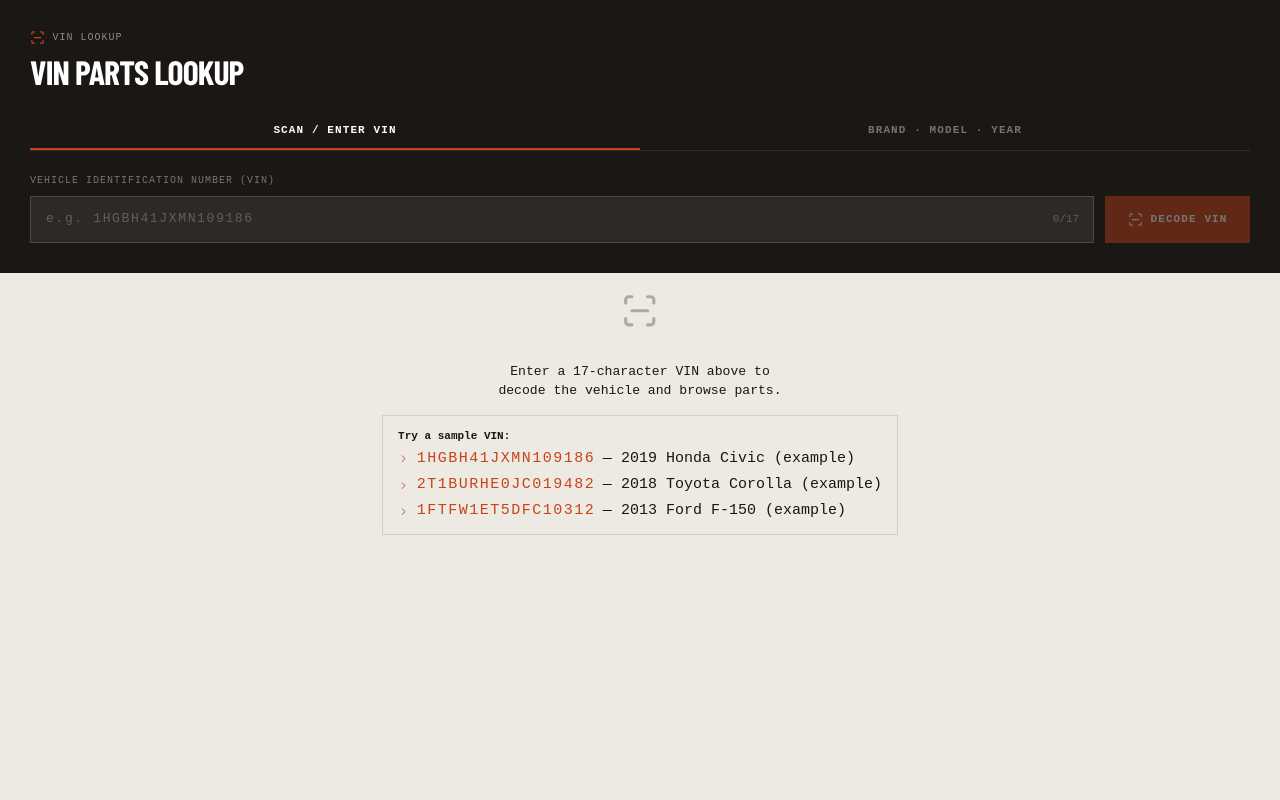
VinLookup page › surfaces a decode failure and stays on the entry panel
Type "1FTFW1E50MFA00001" into the field with placeholder "e.g. 1HGBH41JXMN109186" at [562, 219], box x1=30 y1=196 x2=1094 y2=243
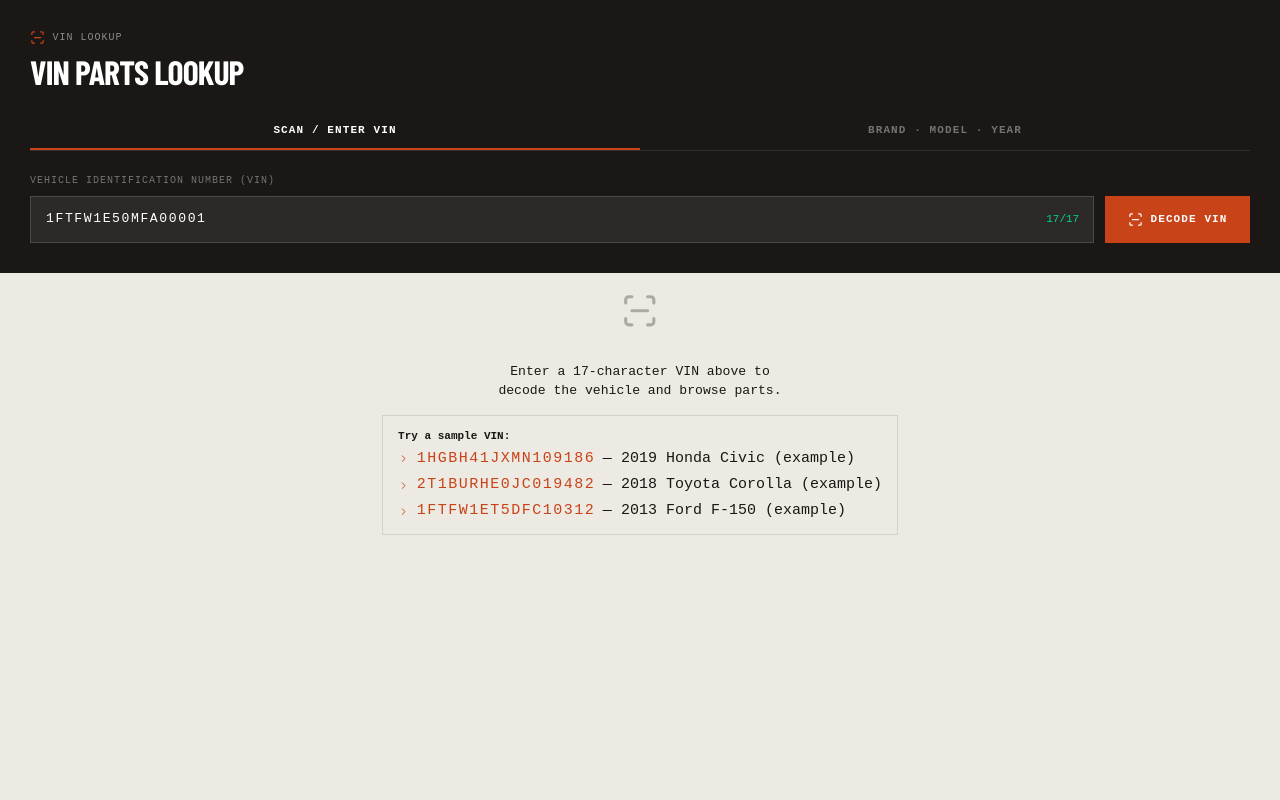
Click the button "Decode VIN" at [1178, 219], box x1=1106 y1=196 x2=1250 y2=243
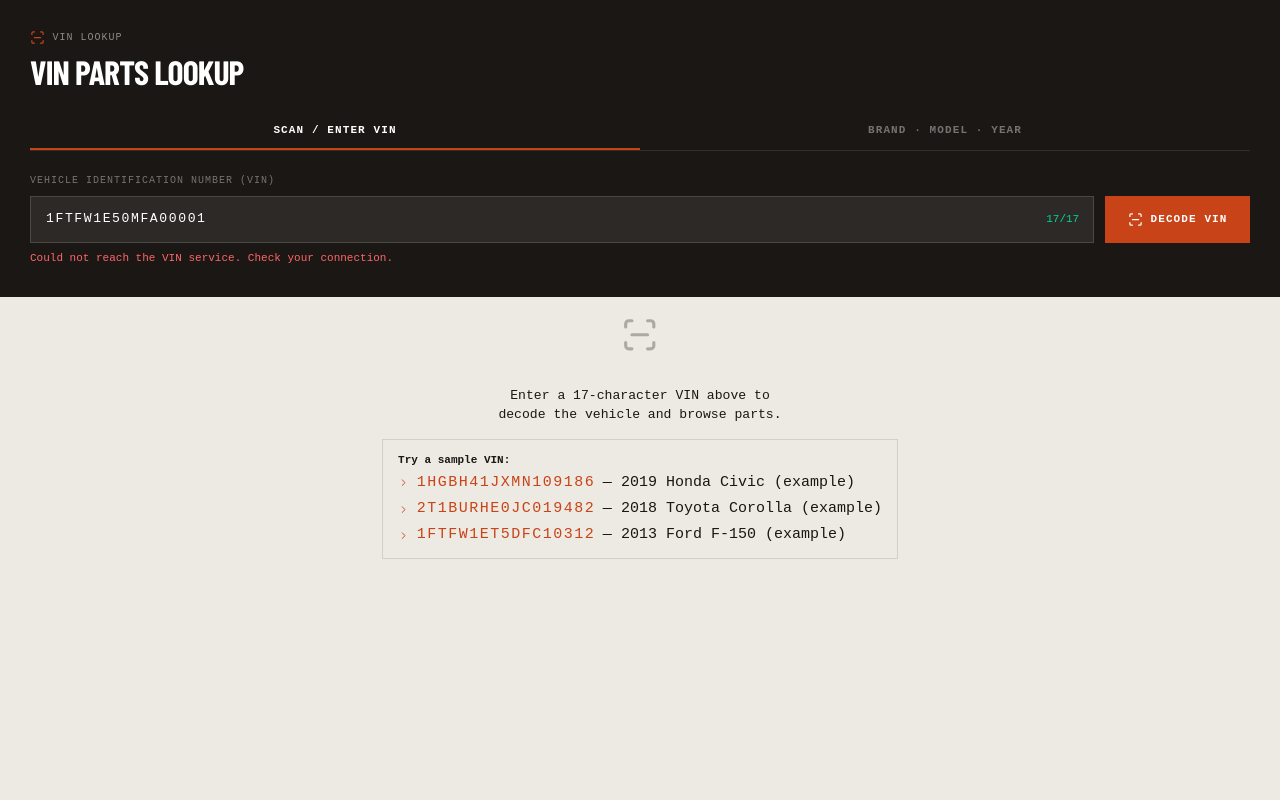
Expected: the text "Could not reach the VIN service. Check your connection." is shown, x1=30 y1=252 x2=393 y2=264
